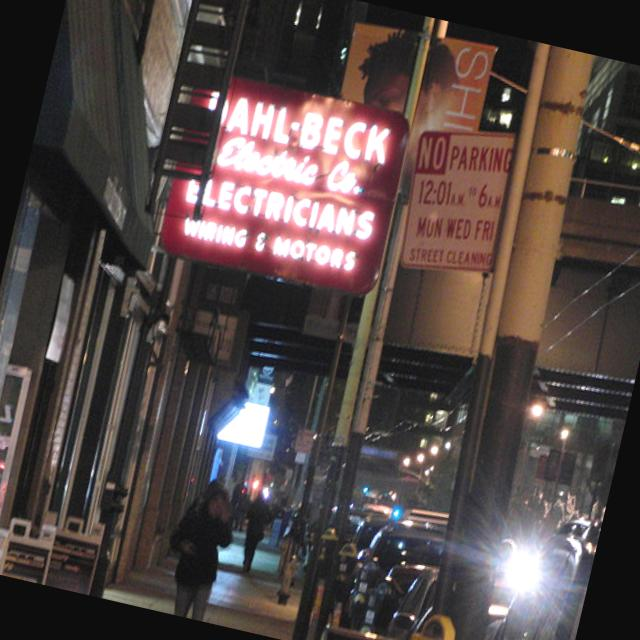Vehicle: (480, 501, 602, 640), (341, 511, 447, 640), (360, 552, 432, 640), (483, 536, 532, 632), (347, 508, 420, 566)
